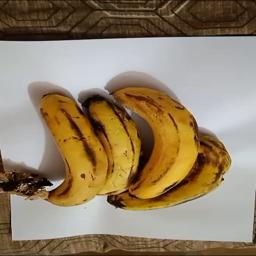Banana Semifresh: (107, 77, 207, 206), (31, 82, 110, 210), (76, 83, 142, 201)
